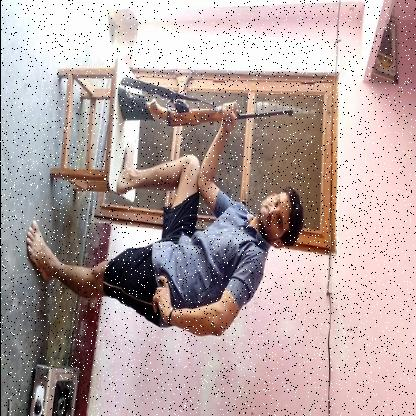rifle: (116, 85, 294, 129)
